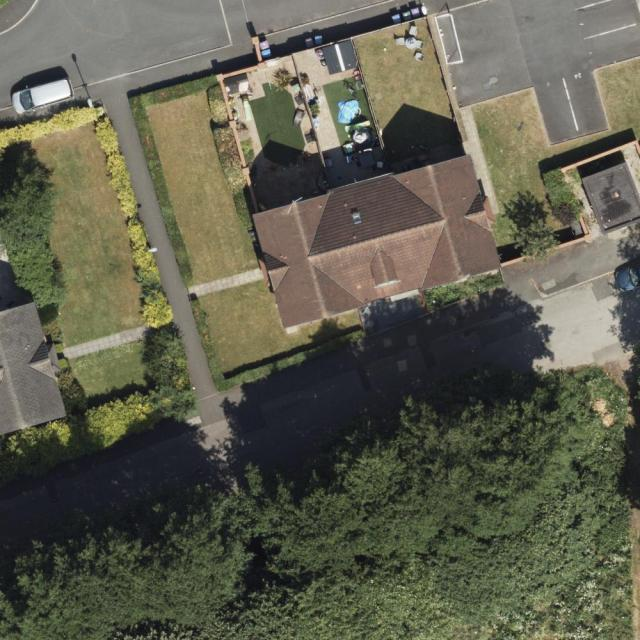roof: (249, 154, 503, 330), (0, 299, 68, 438), (582, 160, 640, 235)
skylight: (350, 212, 363, 227)
